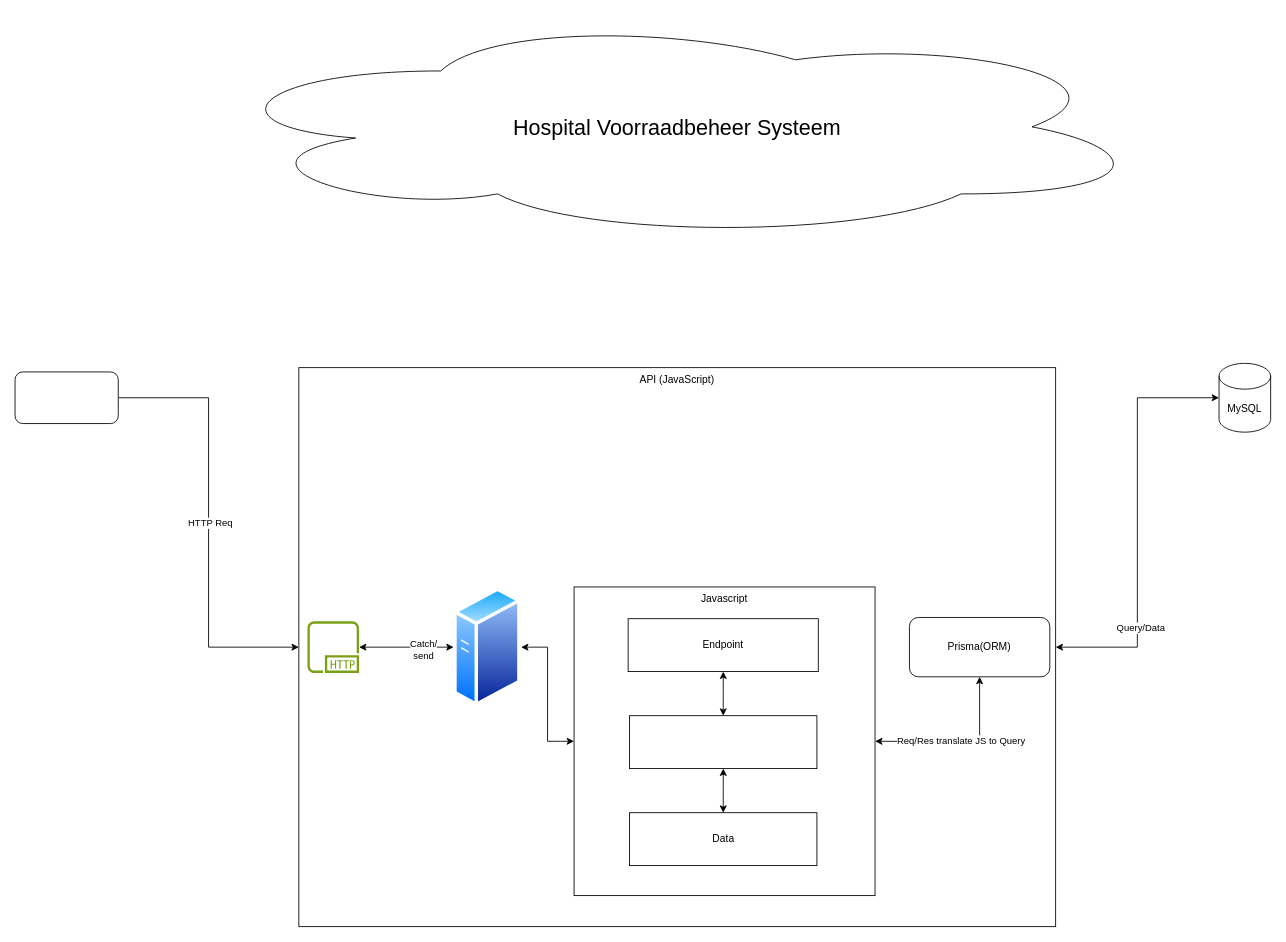
The diagram is 1286 pixels wide and 942 high, and some of its shapes have lost their labels. The shapes that lost their labels are listed below. From the top down, each one's centre as x and y in pixels, then its label:
(66,397): FrontEnd
(333,647): Https Request
(487,647): Node .js Server
(723,742): Process/Security
